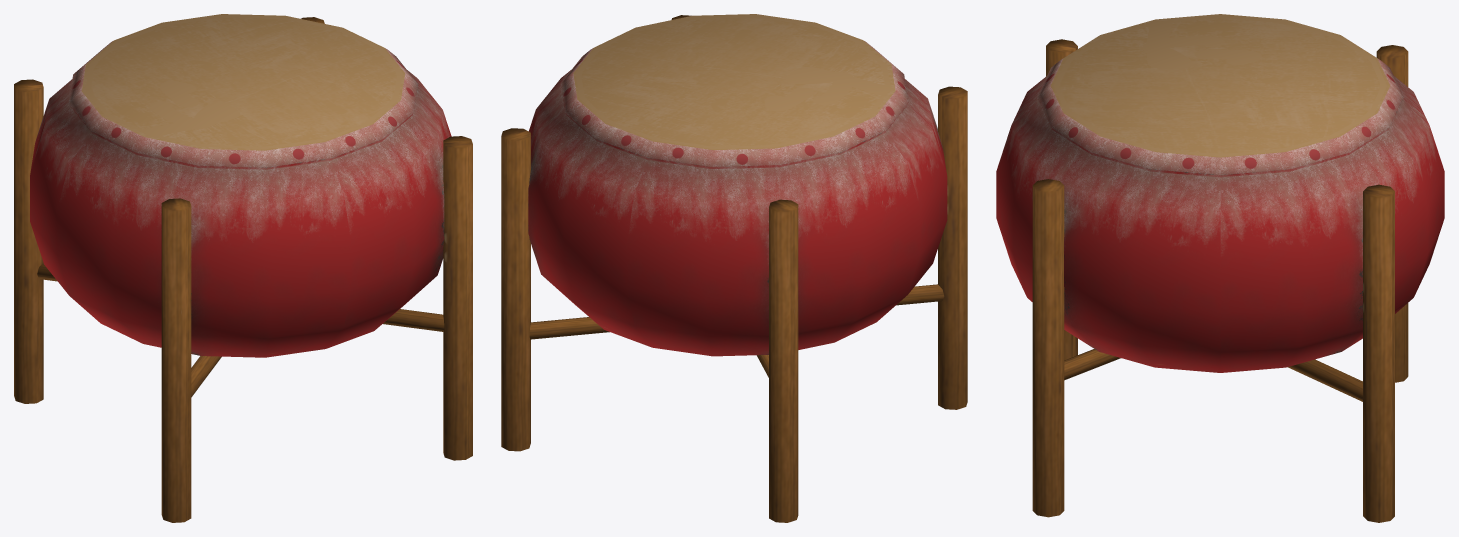
The model's file is Drum_1.FBX.
3 renders of one model, left to right at view 1: azimuth 30°, elevation 25°; view 2: azimuth 150°, elevation 25°; view 3: azimuth 270°, elevation 25°, orthographic. The views are drawn at different scales.
Parts seen in each view (by area): view 1: Drum_1; view 2: Drum_1; view 3: Drum_1.
Boxes of the visible parts, x1,y1,x2,y2 form: Drum_1: [14, 14, 472, 522]; Drum_1: [501, 14, 967, 522]; Drum_1: [996, 14, 1444, 522].
Size of the model in its own units: 40.32 by 35.48 by 40.32.
